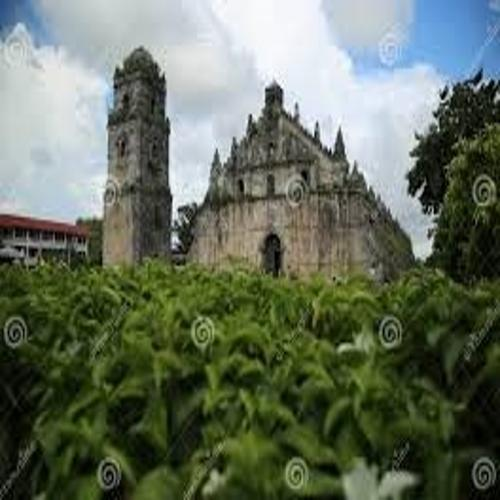Paoay Church: (90, 41, 417, 280)
